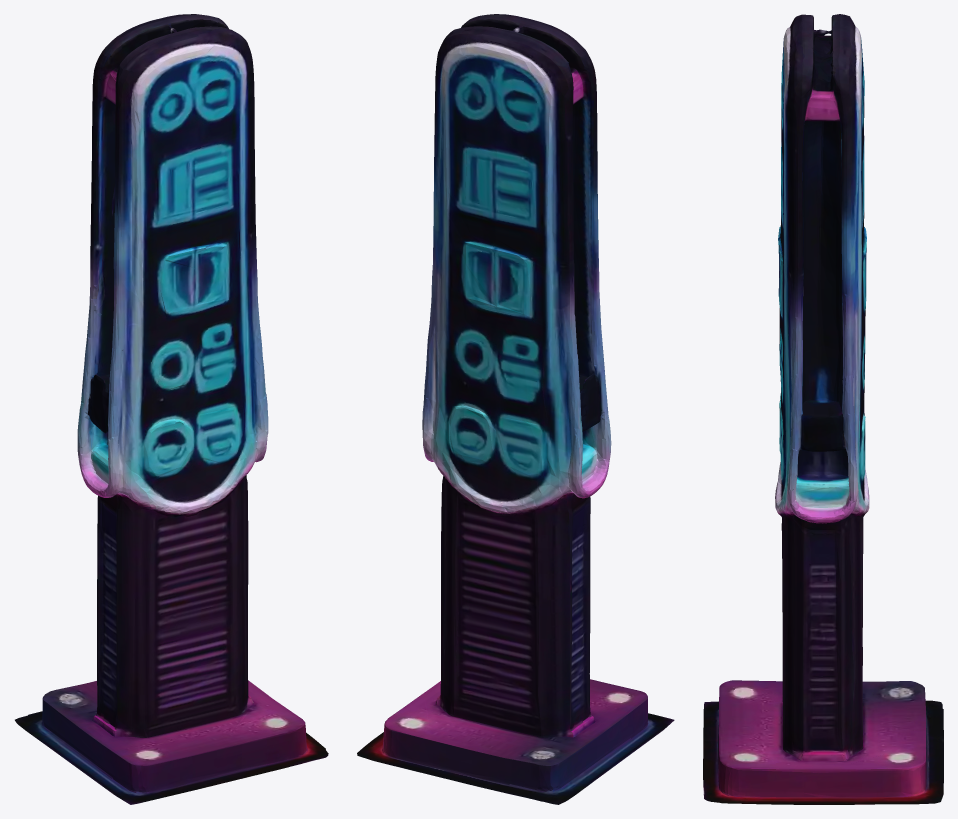
The model's file is prop_kurogane_sign.fbx.
The picture shows the model from 3 angles, left to right: view 1: azimuth 30°, elevation 25°; view 2: azimuth 150°, elevation 25°; view 3: azimuth 270°, elevation 25°; orthographic projection.
Visible parts, largest first — view 1: geometry_0; view 2: geometry_0; view 3: geometry_0.
Part boxes in pixels (x1,y1,x2,y2): geometry_0: [15, 14, 328, 804]; geometry_0: [357, 14, 674, 804]; geometry_0: [703, 14, 943, 804].
Bounding box in the file's own units: 0.3069 × 0.9954 × 0.2998.
